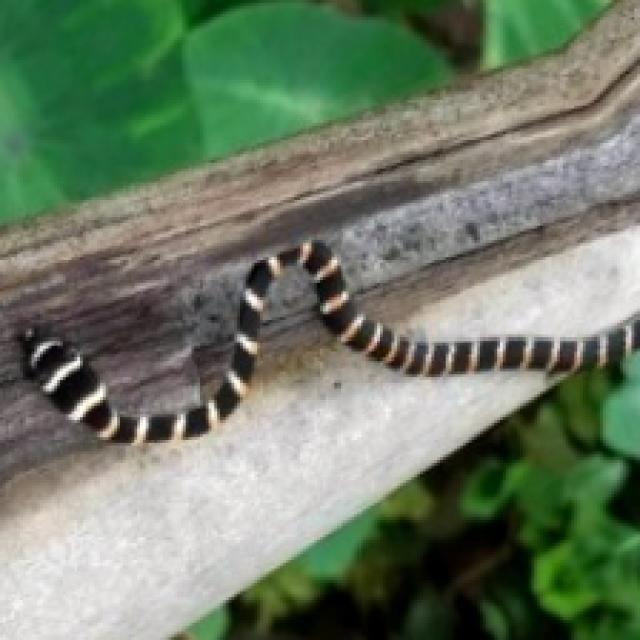paradise tree snake: (240, 226, 637, 429)
